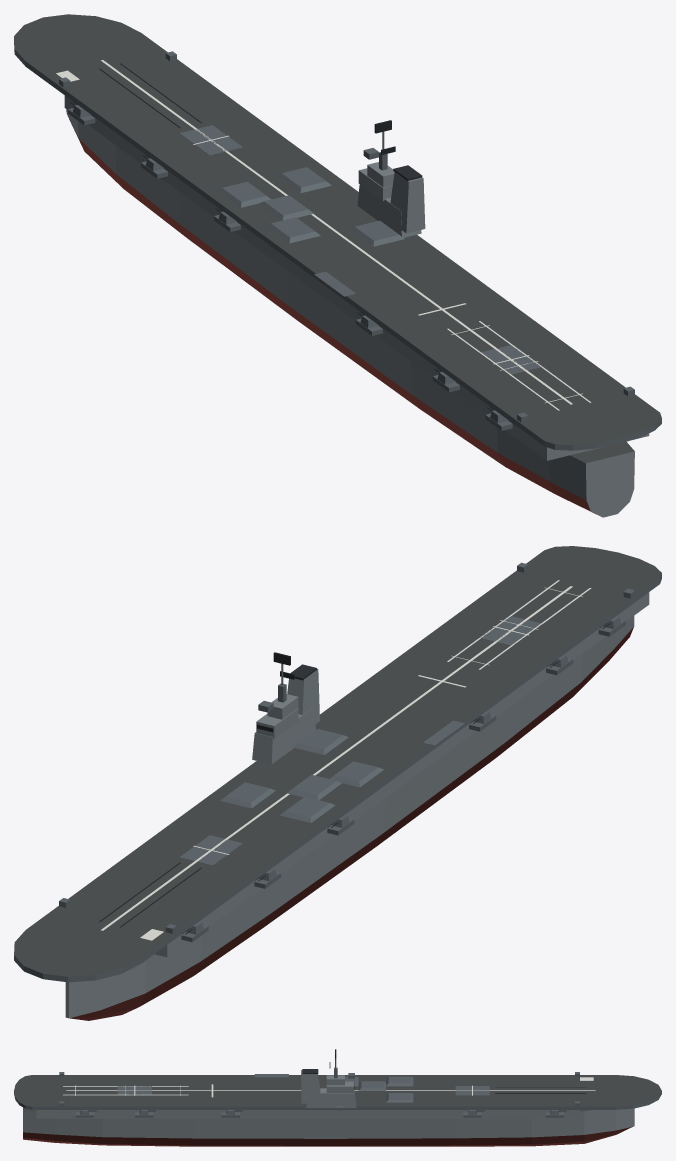
Rendered from valleyforge.glb.
The picture shows the model from 3 angles, top to bottom: view 1: azimuth 30°, elevation 25°; view 2: azimuth 150°, elevation 25°; view 3: azimuth 270°, elevation 25°; orthographic projection. The views are drawn at different scales.
Parts seen in each view (by area): view 1: Flight deck, Hull, Hangar side, Funnel, Centerline, Island base, Elevator, Elevator.001, Parked jet.003, Parked jet.002, Parked jet.004, Parked jet (+1 smaller); view 2: Flight deck, Hull, Hangar side, Island base, Centerline, Funnel, Elevator, Elevator.001, Parked jet, Parked jet.004, Parked jet.003, Parked jet.002 (+1 smaller); view 3: Flight deck, Hull, Hangar side, Island base, Centerline, Funnel, Elevator, Elevator.001, Parked jet, Parked jet.004, Parked jet.001, Island bridge (+2 smaller).
Boxes of the visible parts, x1=… form: Flight deck: x1=14, y1=14, x2=661, y2=450; Hull: x1=66, y1=109, x2=634, y2=517; Hangar side: x1=64, y1=95, x2=649, y2=460; Funnel: x1=390, y1=172, x2=425, y2=233; Centerline: x1=100, y1=60, x2=572, y2=404; Island base: x1=357, y1=184, x2=421, y2=237; Elevator: x1=179, y1=125, x2=242, y2=155; Elevator.001: x1=480, y1=345, x2=541, y2=374; Parked jet.003: x1=349, y1=220, x2=404, y2=246; Parked jet.002: x1=265, y1=217, x2=320, y2=243; Parked jet.004: x1=276, y1=167, x2=331, y2=193; Parked jet: x1=217, y1=181, x2=271, y2=207; Flight deck: x1=14, y1=546, x2=661, y2=982; Hull: x1=65, y1=616, x2=634, y2=1020; Hangar side: x1=155, y1=592, x2=649, y2=957; Island base: x1=252, y1=707, x2=315, y2=764; Centerline: x1=101, y1=586, x2=572, y2=930; Funnel: x1=287, y1=668, x2=319, y2=723; Elevator: x1=179, y1=835, x2=242, y2=865; Elevator.001: x1=479, y1=616, x2=542, y2=645; Parked jet: x1=280, y1=797, x2=335, y2=822; Parked jet.004: x1=220, y1=782, x2=275, y2=808; Parked jet.003: x1=294, y1=729, x2=348, y2=754; Parked jet.002: x1=330, y1=761, x2=383, y2=787; Flight deck: x1=14, y1=1075, x2=661, y2=1109; Hull: x1=23, y1=1107, x2=634, y2=1146; Hangar side: x1=36, y1=1110, x2=579, y2=1118; Island base: x1=306, y1=1088, x2=356, y2=1107; Centerline: x1=66, y1=1090, x2=595, y2=1090; Funnel: x1=301, y1=1070, x2=320, y2=1103; Elevator: x1=455, y1=1086, x2=489, y2=1095; Elevator.001: x1=117, y1=1086, x2=151, y2=1094; Parked jet: x1=386, y1=1076, x2=413, y2=1086; Parked jet.004: x1=386, y1=1093, x2=413, y2=1102; Parked jet.001: x1=358, y1=1081, x2=385, y2=1090; Island bridge: x1=326, y1=1081, x2=353, y2=1092.
Bounding box in the file's own units: 38.2 × 50.9 × 284.
